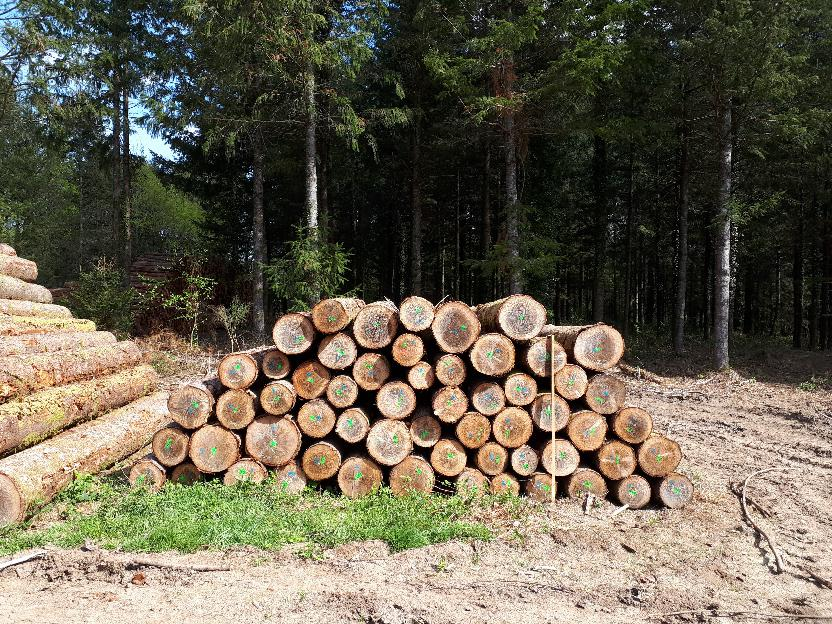etalon: (547, 330, 557, 511)
object: (242, 410, 302, 463), (433, 296, 477, 354), (187, 422, 236, 472), (573, 326, 627, 368), (350, 300, 394, 350), (269, 310, 315, 356), (363, 420, 413, 462), (390, 457, 435, 503), (166, 381, 210, 427), (582, 374, 636, 410), (498, 296, 544, 338), (538, 436, 582, 478), (594, 438, 638, 480), (338, 456, 386, 494), (474, 329, 516, 371), (531, 392, 573, 434), (637, 433, 682, 471), (564, 411, 614, 445), (219, 383, 254, 429), (291, 358, 331, 398), (349, 350, 389, 388), (492, 404, 532, 442), (126, 456, 164, 496), (216, 350, 258, 386), (398, 294, 434, 334), (614, 408, 660, 438), (526, 335, 562, 373), (312, 295, 346, 335), (373, 382, 415, 414), (562, 470, 604, 502), (451, 467, 488, 503), (455, 412, 491, 448), (554, 358, 588, 396), (298, 398, 336, 432), (302, 442, 340, 476), (658, 474, 696, 508), (432, 386, 468, 421), (220, 461, 262, 491), (318, 334, 354, 368), (152, 422, 184, 460), (431, 440, 464, 476), (266, 465, 308, 493), (258, 378, 290, 414), (410, 410, 442, 446), (505, 370, 537, 404), (476, 442, 508, 476), (618, 474, 650, 508), (470, 382, 506, 412), (337, 407, 365, 443), (392, 335, 422, 367), (260, 346, 290, 378), (326, 374, 358, 404), (433, 356, 467, 384), (404, 359, 434, 389), (172, 463, 200, 490), (528, 474, 554, 499), (492, 474, 516, 500), (514, 443, 534, 472)
pile: (124, 293, 698, 508)
